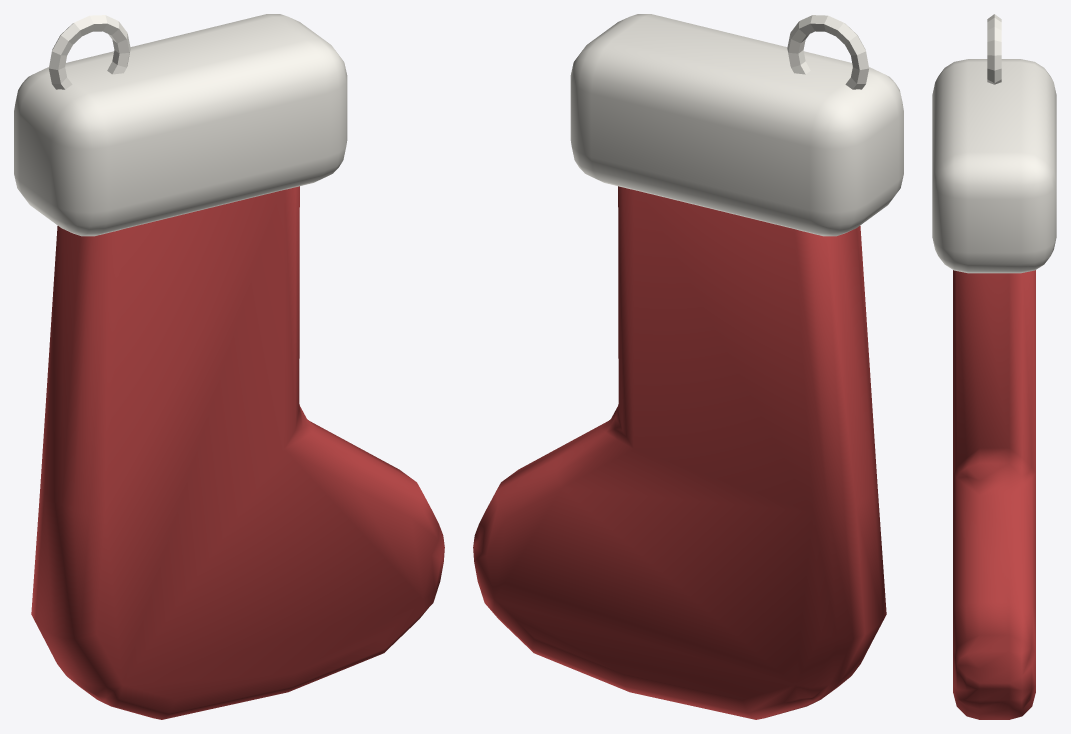
File: stocking.glb
The picture shows the model from 3 angles, left to right: view 1: azimuth 30°, elevation 25°; view 2: azimuth 150°, elevation 25°; view 3: azimuth 270°, elevation 25°; orthographic projection. The views are drawn at different scales.
Parts seen in each view (by area): view 1: Stocking, Stocking_Cuff, Stocking_Loop; view 2: Stocking, Stocking_Cuff, Stocking_Loop; view 3: Stocking, Stocking_Cuff, Stocking_Loop.
Boxes of the visible parts, bbox=[...] form: Stocking: bbox=[31, 186, 444, 719]; Stocking_Cuff: bbox=[14, 14, 347, 236]; Stocking_Loop: bbox=[49, 15, 130, 89]; Stocking: bbox=[473, 186, 886, 719]; Stocking_Cuff: bbox=[570, 14, 903, 236]; Stocking_Loop: bbox=[787, 15, 868, 89]; Stocking: bbox=[953, 270, 1035, 719]; Stocking_Cuff: bbox=[932, 59, 1056, 273]; Stocking_Loop: bbox=[987, 14, 1001, 84].
Bounding box in the file's own units: 0.1305 × 0.2245 × 0.042.
